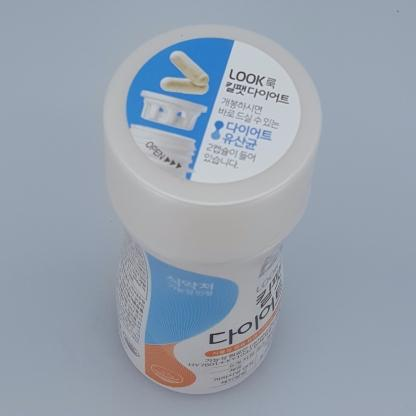------LOOK------170ML: (103, 24, 322, 394)
